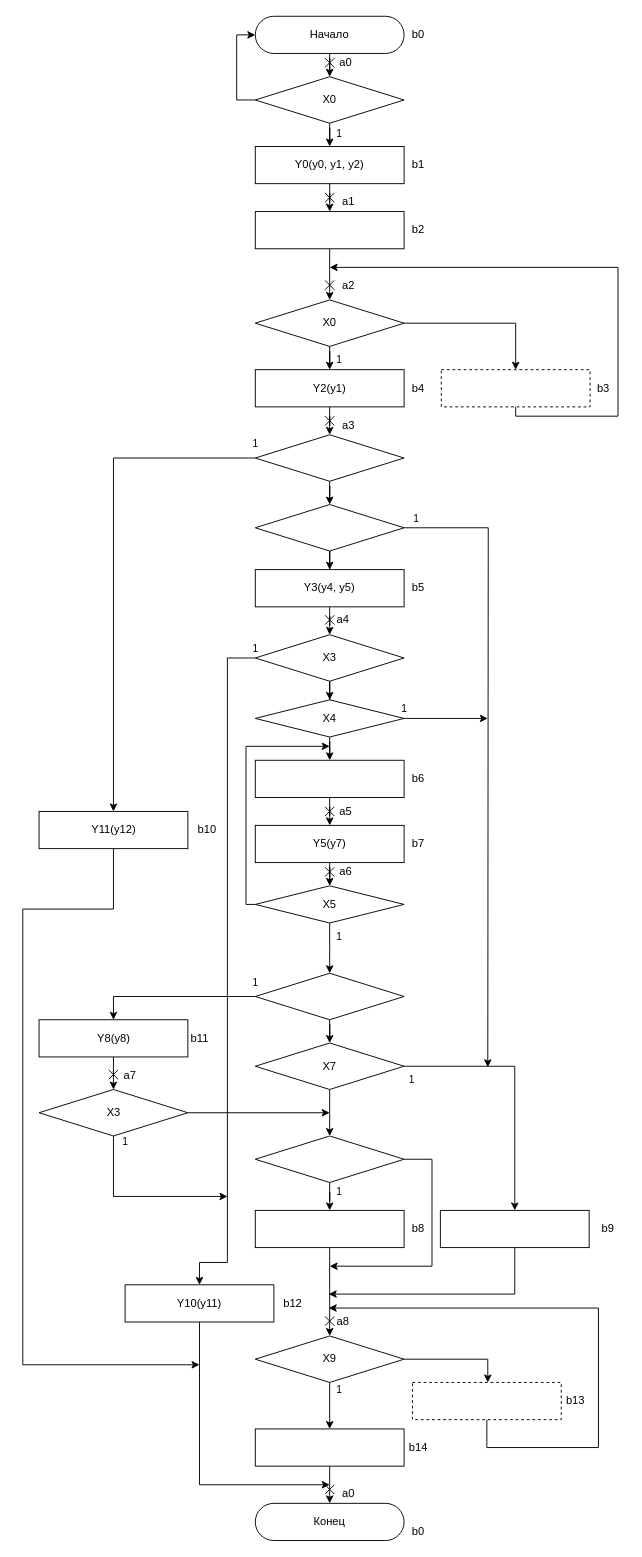
Some shapes in this 642 by 1557 pixel diagram are drawn without their labels. Here are the shapes that lost their labels. From the top down, the centre of each, then its label:
point 329,230: Y1(y3, y4)
point 329,457: X1
point 329,527: X2
point 329,778: Y4(y3)
point 329,996: X6
point 329,1158: X8
point 329,1228: Y6(y6)
point 514,1228: Y9(y2, y9)
point 329,1447: Y7(y10)
